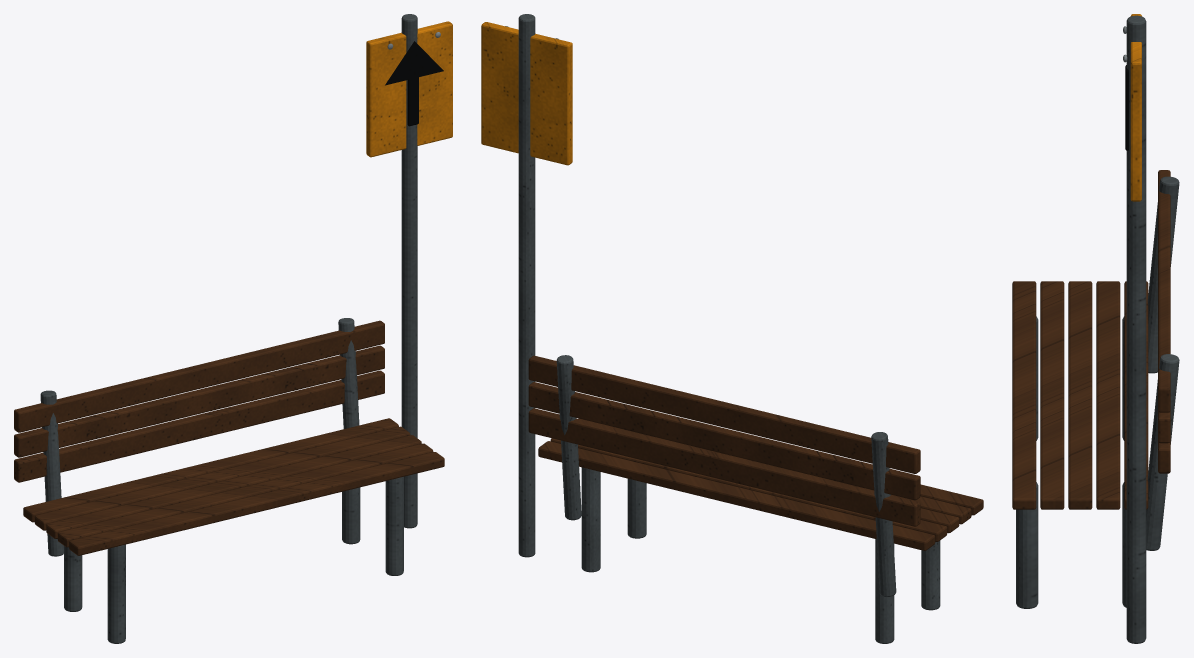
File: PROP-3BF17570D415_lod0.glb
3 renders of one model, left to right at view 1: azimuth 30°, elevation 25°; view 2: azimuth 150°, elevation 25°; view 3: azimuth 270°, elevation 25°, orthographic. The views are drawn at different scales.
Parts seen in each view (by area): view 1: back_slats.003, seat_slats.003, sign_plate, sign_post, bench_legs.003, back_support.003, direction_symbol; view 2: back_slats.003, seat_slats.003, sign_plate, sign_post, bench_legs.003, back_support.003; view 3: seat_slats.003, sign_post, back_support.003, bench_legs.003, back_slats.003, sign_plate, symbol_stem.
Part boxes in pixels (<box>): back_slats.003: <box>14,320,384,482</box>; seat_slats.003: <box>23,418,444,555</box>; sign_plate: <box>366,21,452,157</box>; sign_post: <box>401,14,417,528</box>; bench_legs.003: <box>64,476,403,643</box>; back_support.003: <box>40,318,359,556</box>; direction_symbol: <box>385,41,443,85</box>; back_slats.003: <box>528,355,920,526</box>; seat_slats.003: <box>538,418,983,550</box>; sign_plate: <box>481,22,572,165</box>; sign_post: <box>518,14,535,557</box>; bench_legs.003: <box>581,467,940,643</box>; back_support.003: <box>556,355,896,596</box>; seat_slats.003: <box>1012,281,1148,509</box>; sign_post: <box>1126,15,1146,643</box>; back_support.003: <box>1146,176,1179,550</box>; bench_legs.003: <box>1016,316,1126,608</box>; back_slats.003: <box>1158,170,1170,473</box>; sign_plate: <box>1130,14,1141,201</box>; symbol_stem: <box>1125,65,1128,150</box>.
Size of the model in its own units: 2.14 by 2.45 by 0.5966.
5 materials, 5 textured.
